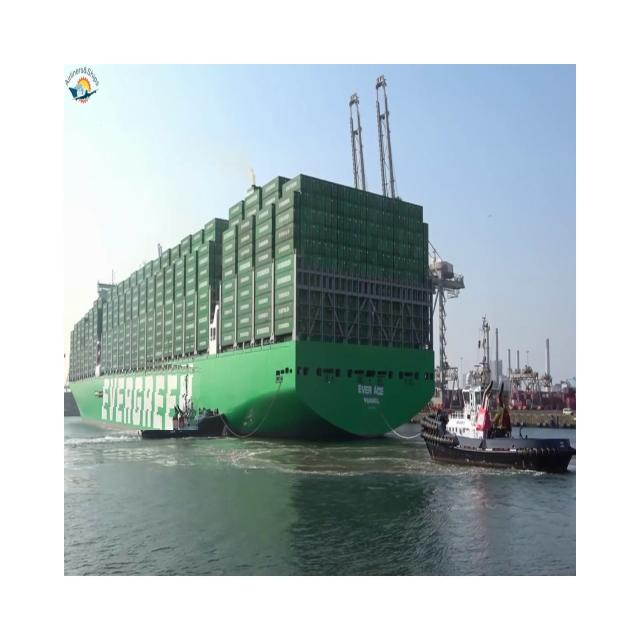OCR: (95, 356, 201, 430), (352, 374, 386, 412)
